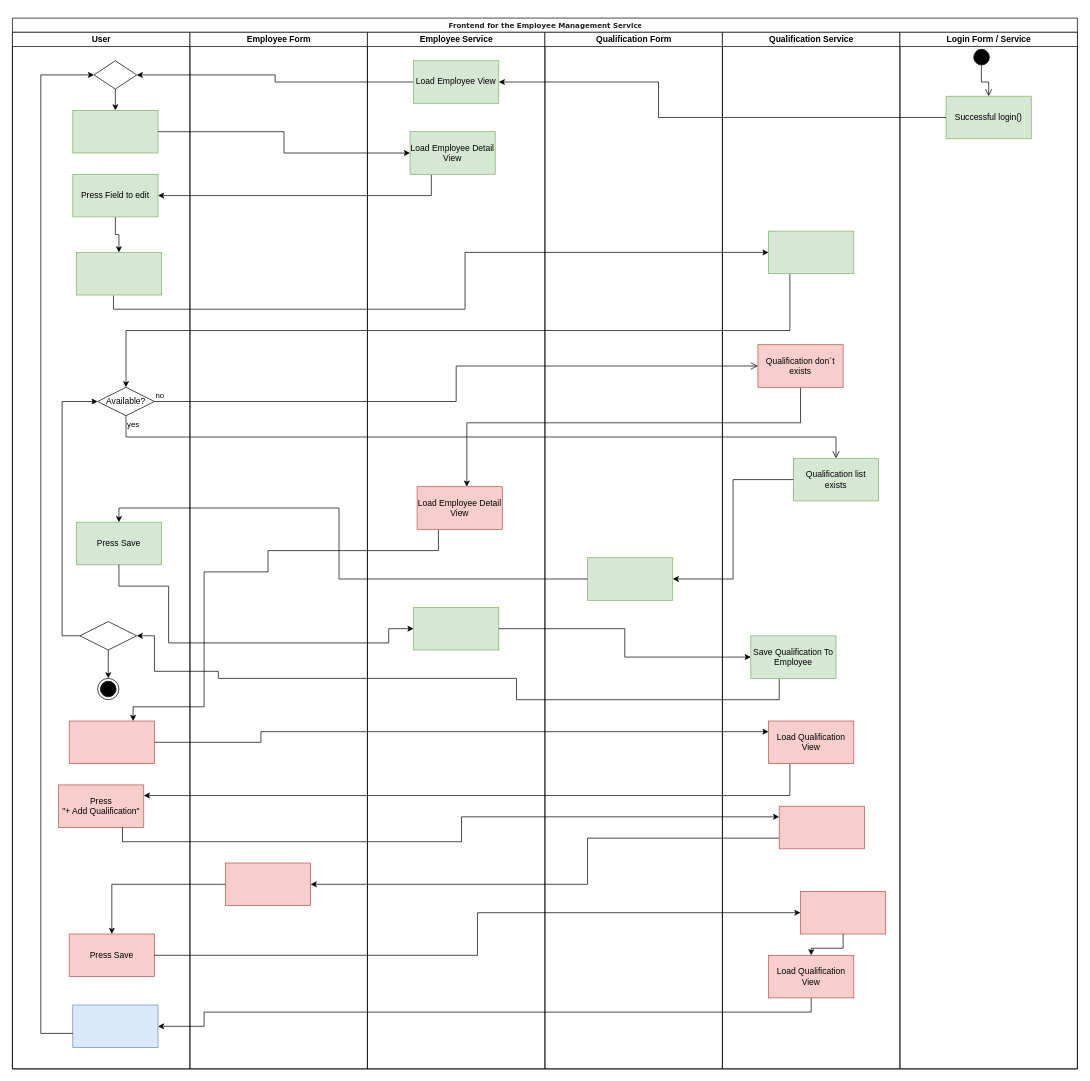
Image size: 1090x1081. Some labels were removed from this diagram. Here are the shapes that lost their labels. From the top down, the centre of each, then its label:
[115,131]: Press Employee
[811,252]: Open Qualification PopUp
[119,273]: Press Qualification
[630,578]: Do qualification selection
[108,635]: Add more
[456,628]: Save Employee
[111,742]: Press button to Qualification View
[821,827]: Load Qualification Creation View
[268,884]: Write Designation
[843,912]: Save Qualification
[115,1026]: Press button to Employee View
